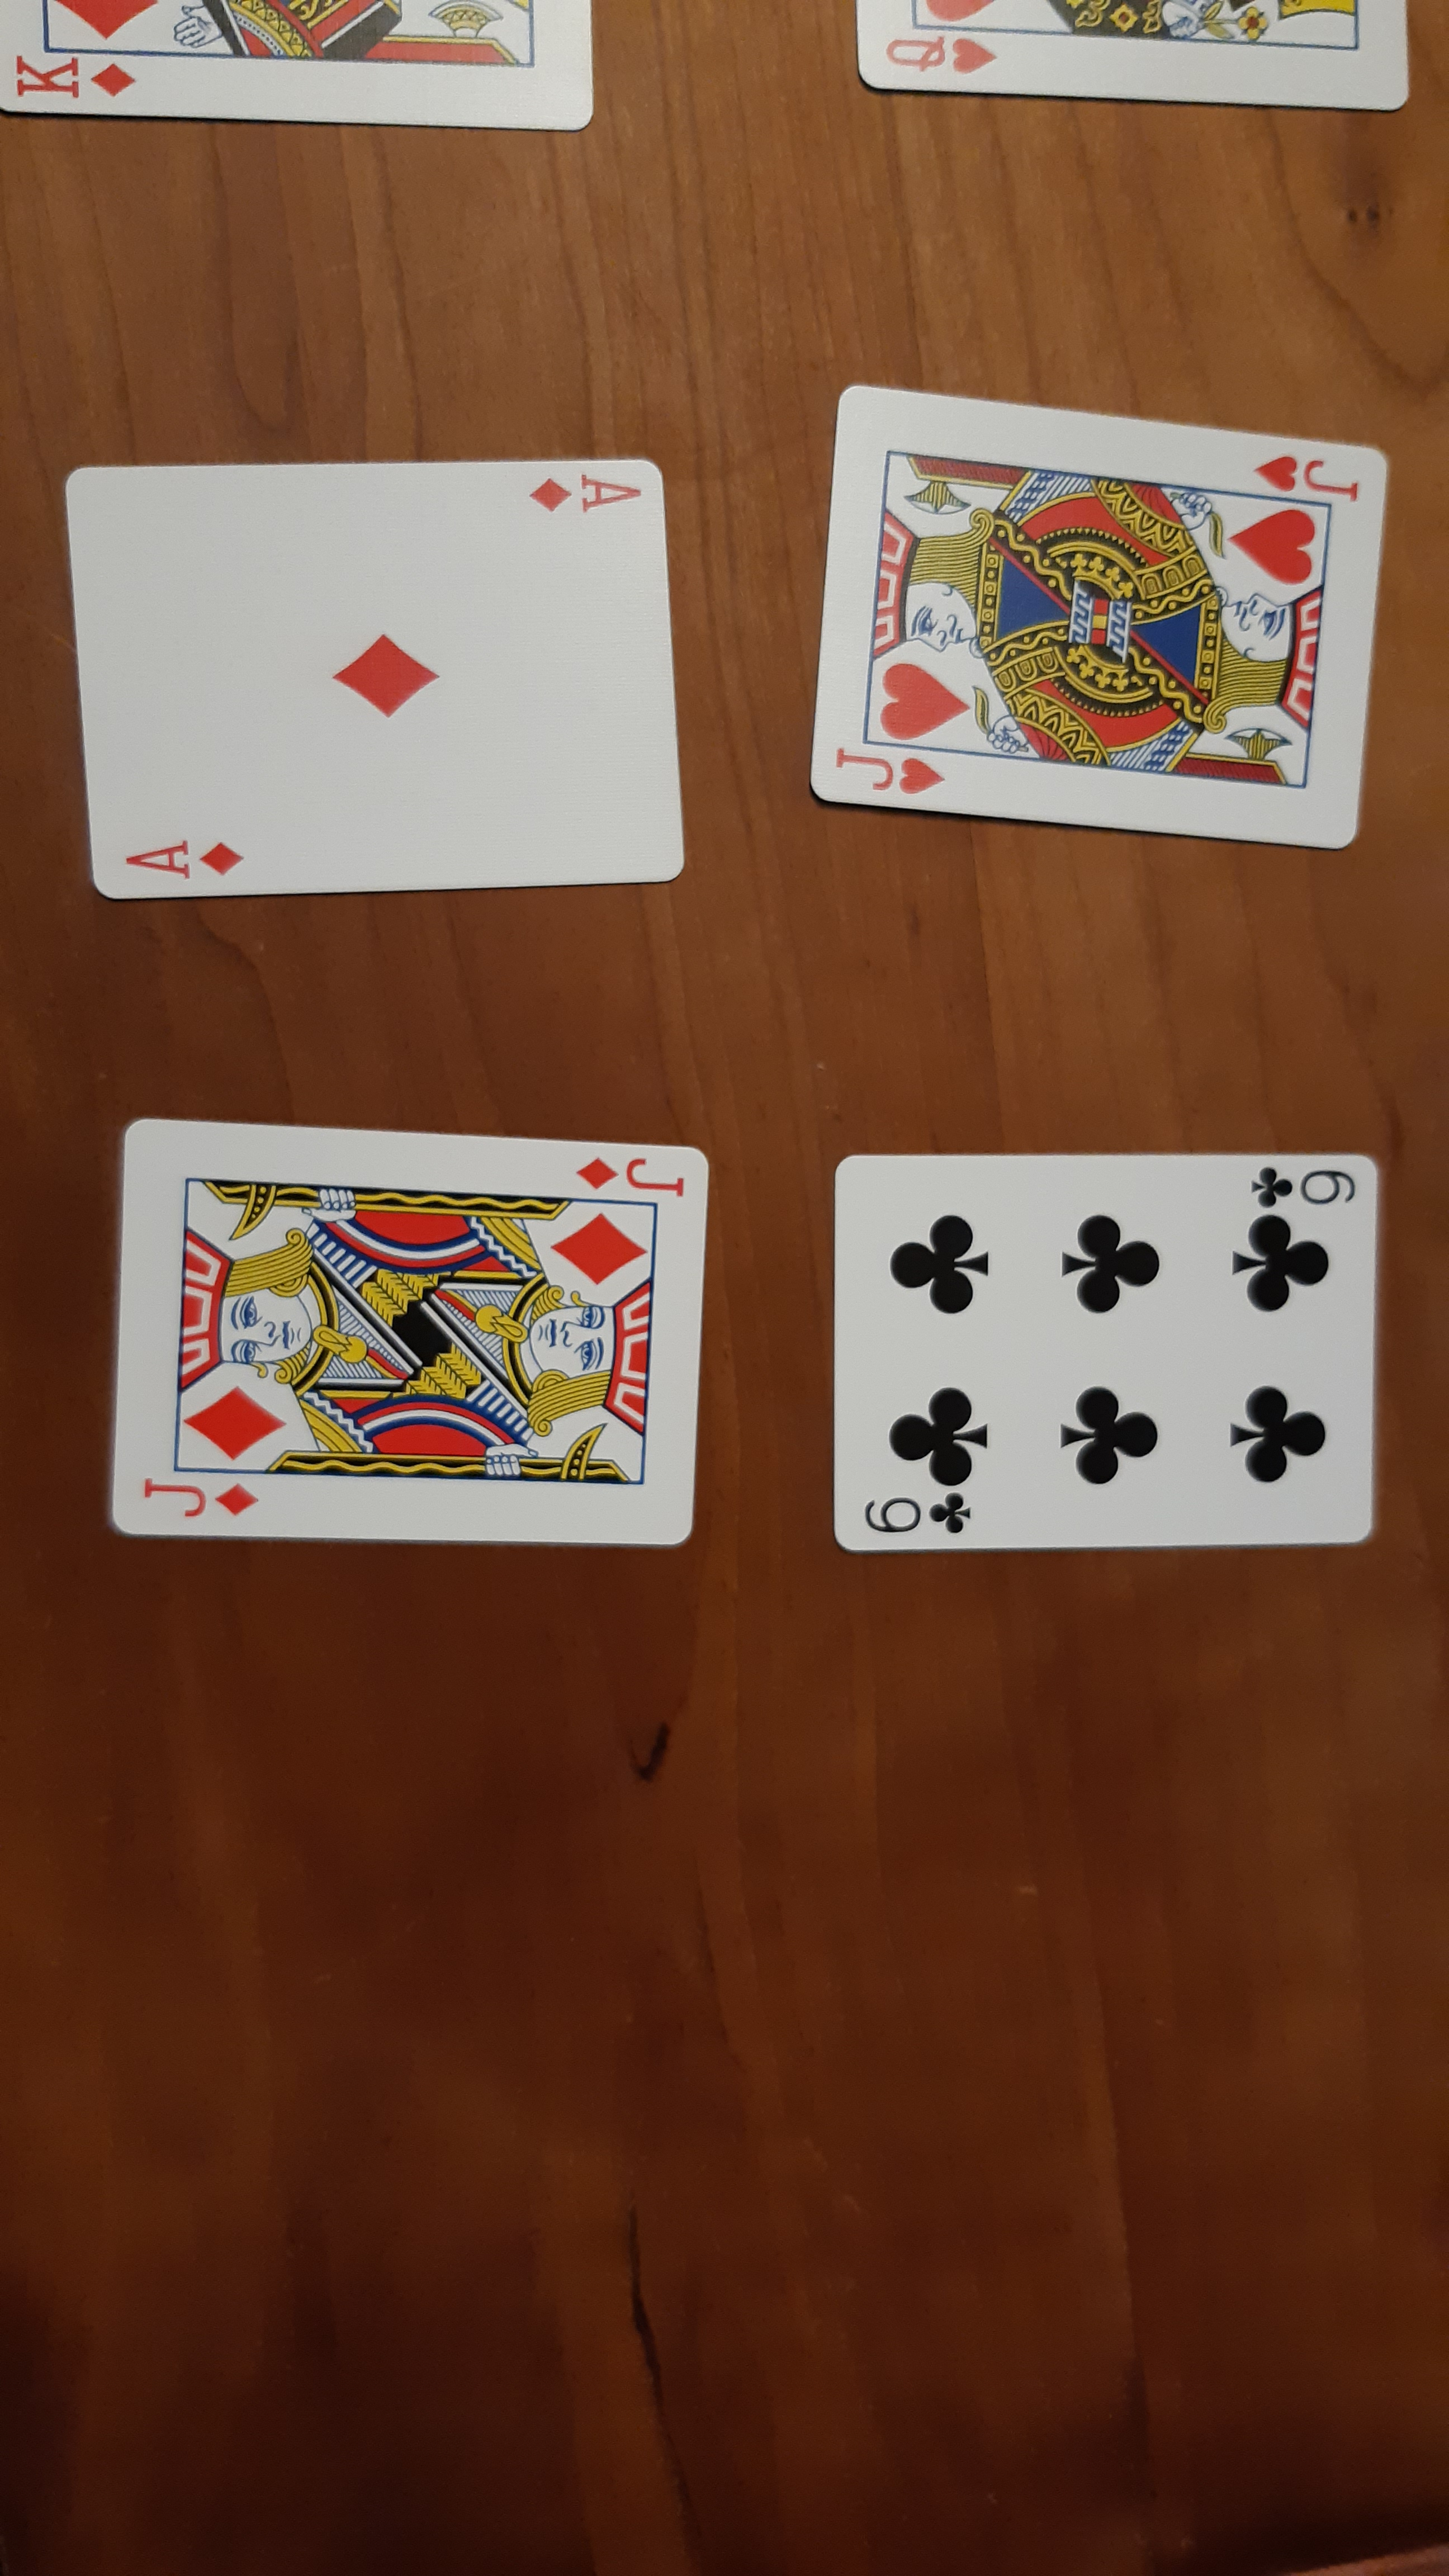Black_Club_6: (858, 1159, 1369, 1541)
Red_Diamond_Ace: (119, 828, 255, 885), (522, 464, 644, 522)
Red_Diamond_Jack: (126, 1470, 262, 1530), (568, 1145, 694, 1205)
Red_Diamond_King: (2, 39, 149, 117)
Red_Heart_Jack: (821, 740, 957, 809), (1254, 446, 1369, 502)
Red_Heart_Queen: (885, 23, 1007, 83)
